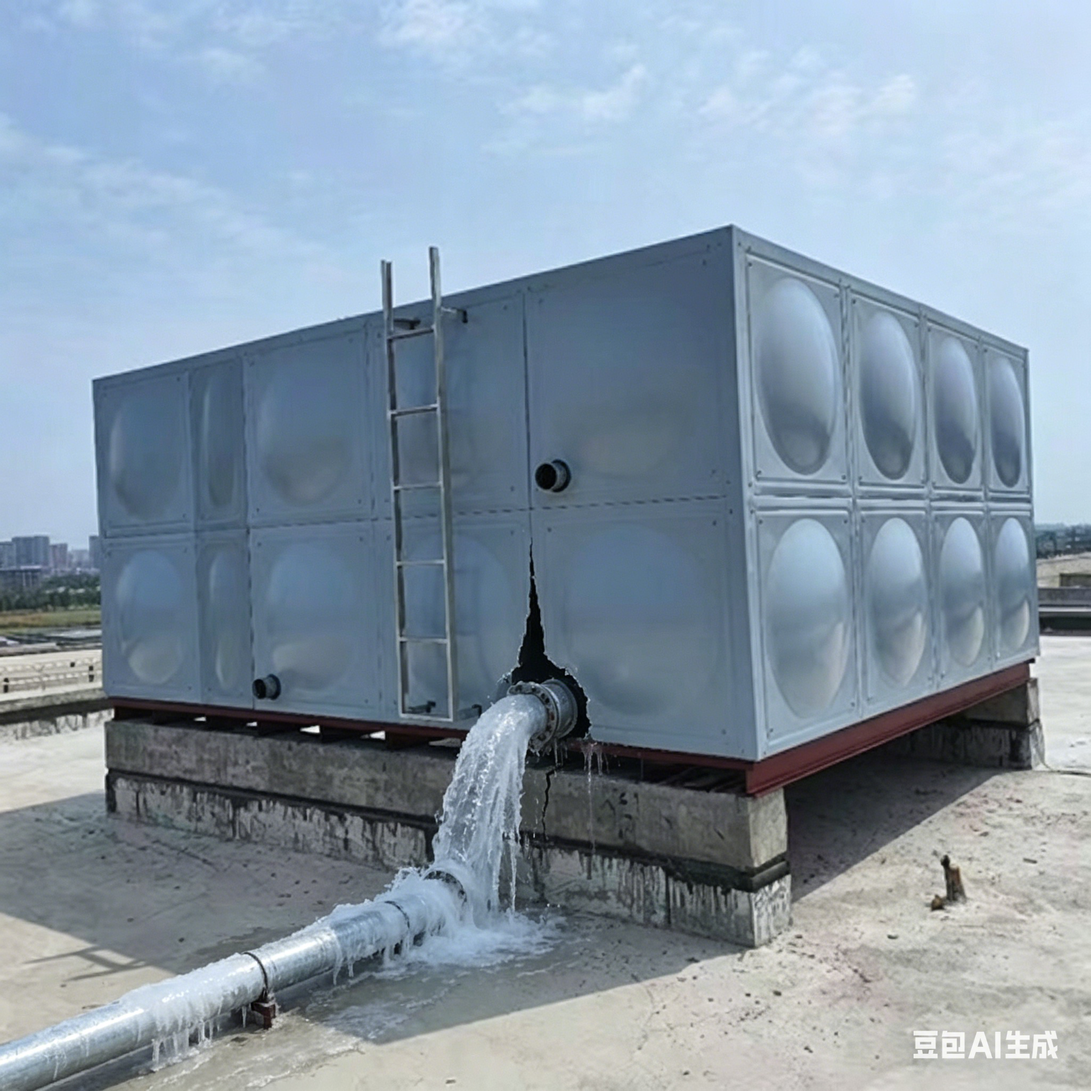Leakage: (387, 696, 624, 979)
